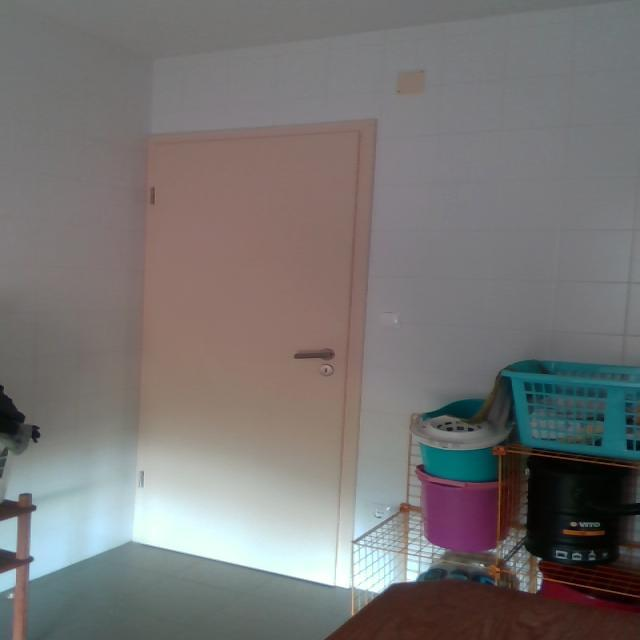door: (113, 118, 393, 593)
